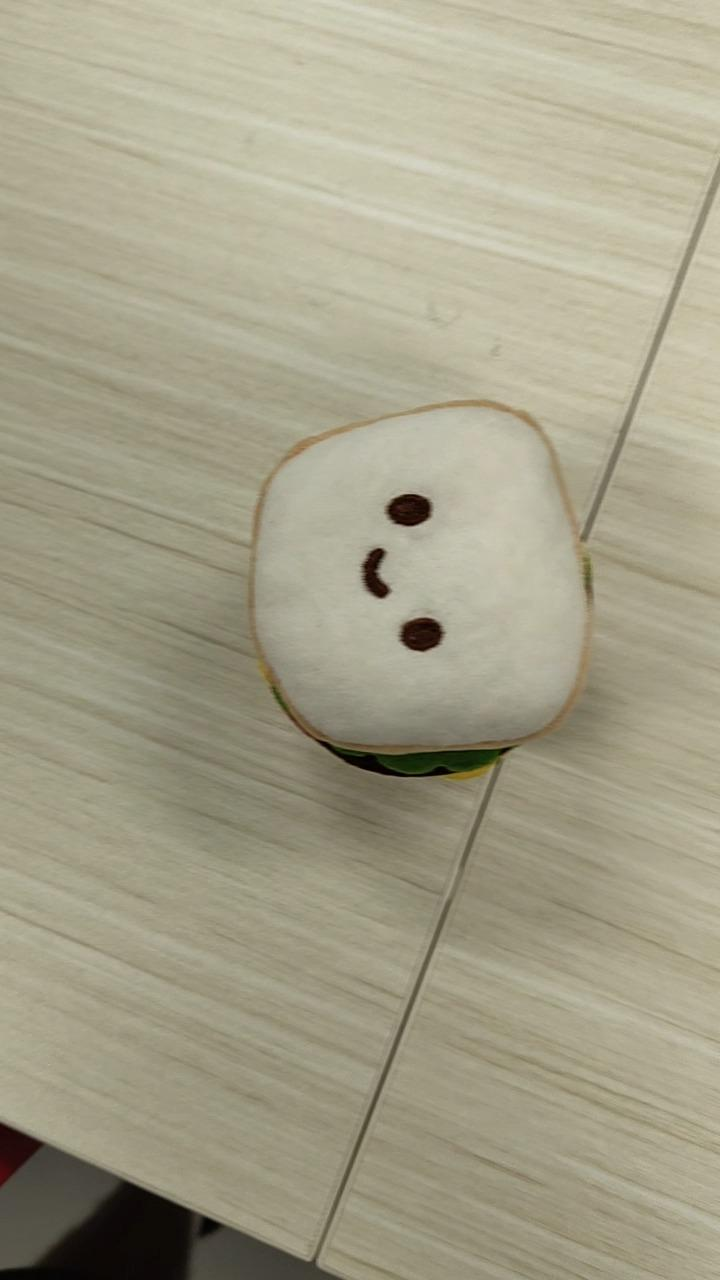objects: (244, 395, 596, 781)
